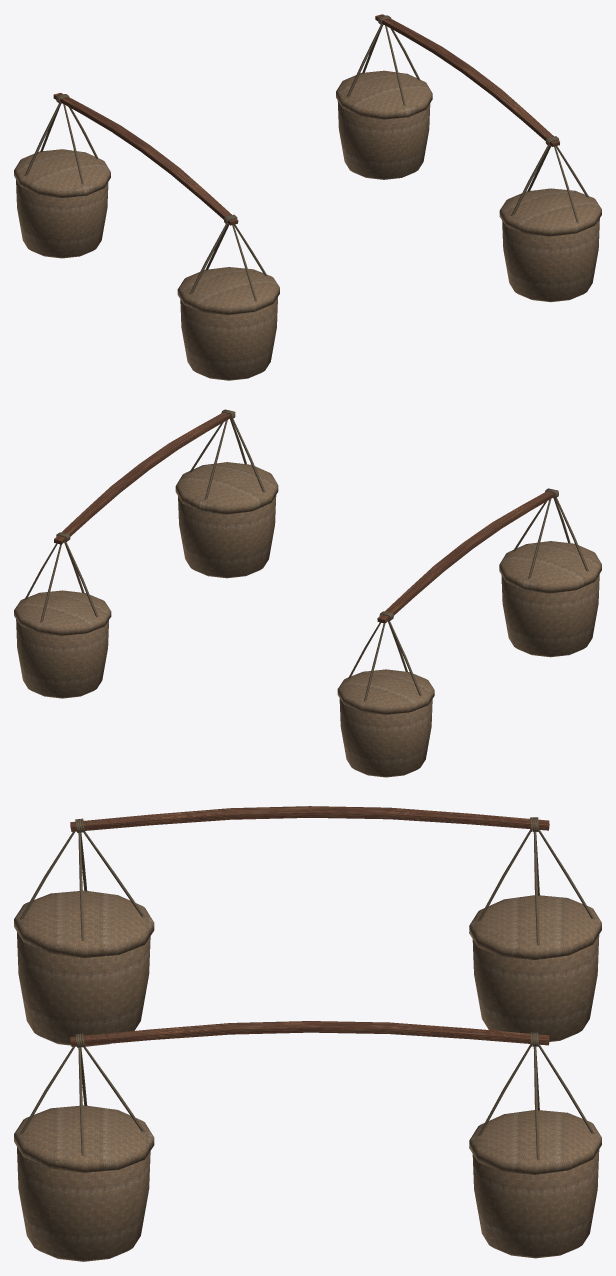
The picture shows the model from 3 angles, top to bottom: view 1: azimuth 30°, elevation 25°; view 2: azimuth 150°, elevation 25°; view 3: azimuth 270°, elevation 25°; orthographic projection. The views are drawn at different scales.
Visible parts, largest first — view 1: Basketmain_B.001, Basketmain_B.002; view 2: Basketmain_B.001, Basketmain_B.002; view 3: Basketmain_B.001, Basketmain_B.002.
Boxes of the visible parts, x1,y1,x2,y2 form: Basketmain_B.001: (336, 14, 601, 302); Basketmain_B.002: (14, 93, 279, 380); Basketmain_B.001: (14, 409, 278, 698); Basketmain_B.002: (337, 488, 601, 777); Basketmain_B.001: (14, 1021, 601, 1261); Basketmain_B.002: (14, 806, 601, 1046).
Bounding box in the file's own units: 2.47 × 0.9042 × 2.24.
